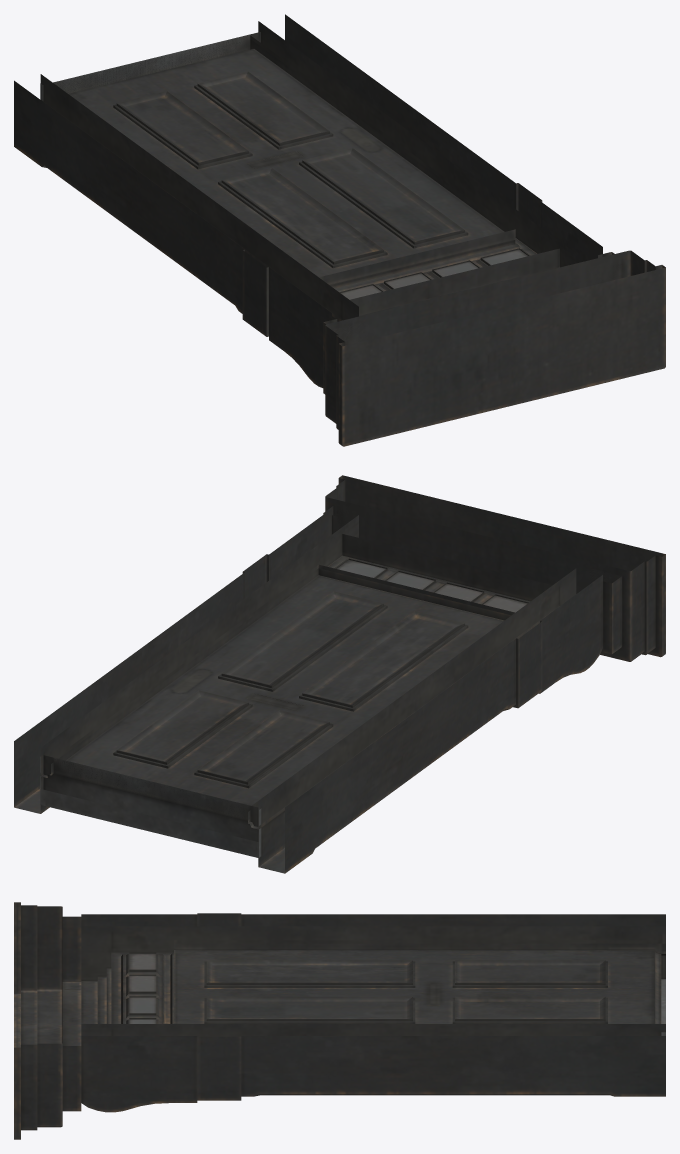
File: door_centered_small_01.gltf
3 views of the same model, one above another, from view 1: azimuth 30°, elevation 25°; view 2: azimuth 150°, elevation 25°; view 3: azimuth 270°, elevation 25° (orthographic). The views are drawn at different scales.
Parts seen in each view (by area): view 1: door_centered_small_01; view 2: door_centered_small_01; view 3: door_centered_small_01.
Boxes of the visible parts, x1,y1,x2,y2 form: door_centered_small_01: [14, 14, 665, 446]; door_centered_small_01: [14, 475, 665, 873]; door_centered_small_01: [14, 902, 665, 1139].
Size of the model in its own units: 1.48 by 0.44 by 2.81.
2 materials, 2 textured.
